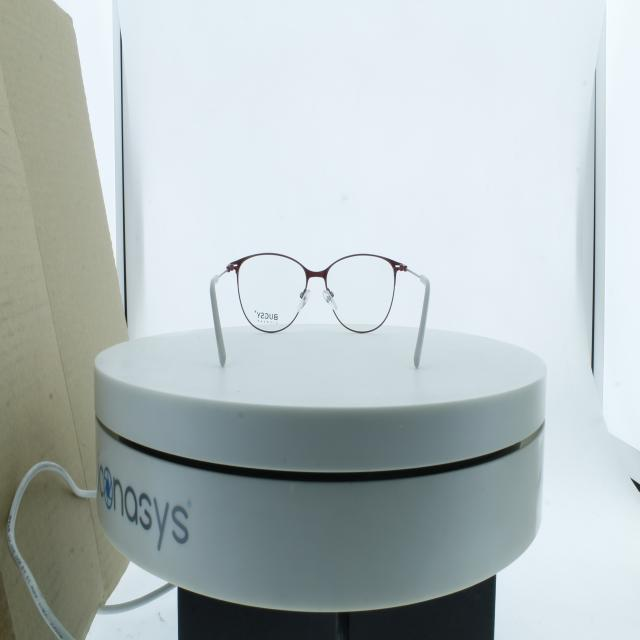Specs: (202, 240, 440, 383)
